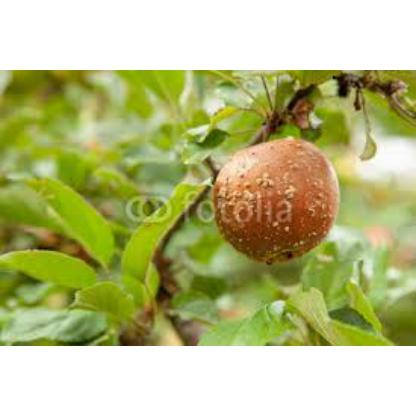apple: (208, 136, 338, 264)
